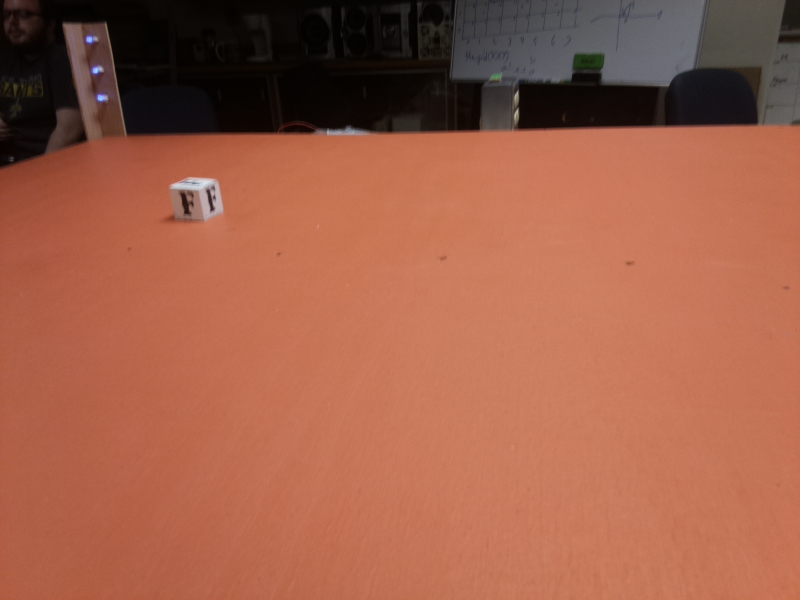blockF: (171, 175, 230, 226)
corner: (63, 19, 132, 141)
